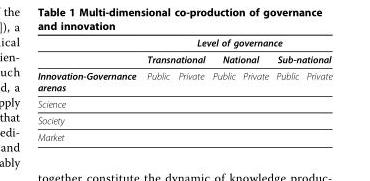table: (36, 36, 331, 142)
table column: (36, 36, 140, 142), (173, 36, 208, 142), (140, 36, 173, 142), (238, 36, 271, 142), (271, 36, 302, 142), (208, 36, 238, 142), (302, 36, 331, 142)
table column header: (36, 36, 331, 95)
table projected row header: (36, 95, 331, 112), (36, 112, 331, 128)
table row: (36, 67, 331, 95), (36, 50, 331, 67), (36, 95, 331, 112), (36, 112, 331, 128), (36, 36, 331, 50), (36, 128, 331, 142)
table spanning cell: (36, 36, 140, 95), (140, 36, 331, 50), (140, 50, 208, 67), (208, 50, 271, 67), (271, 50, 331, 67)
